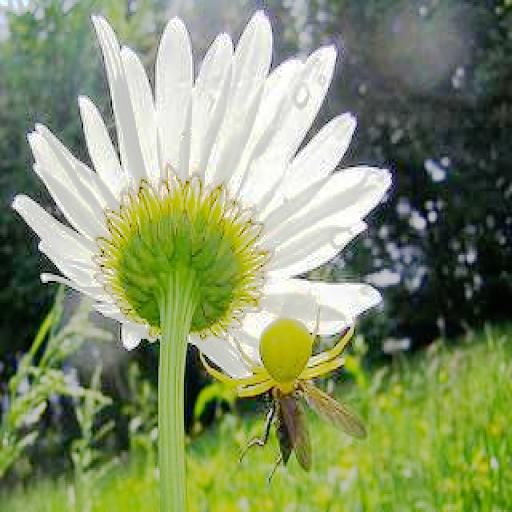daisy: (32, 20, 378, 372)
